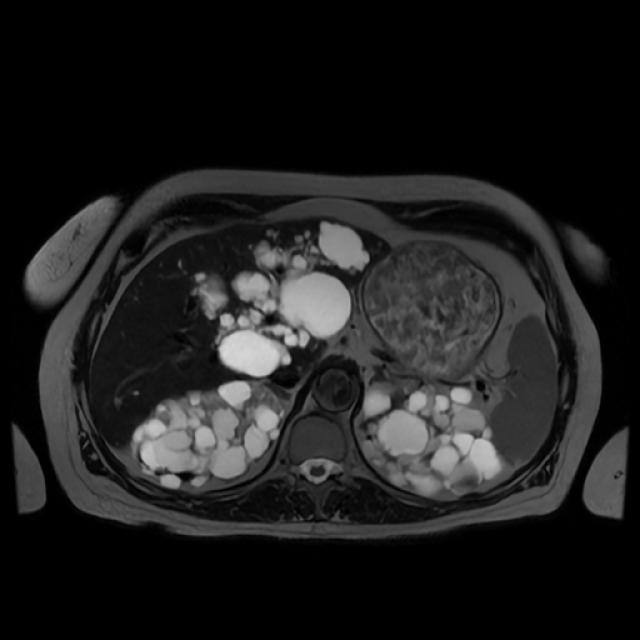sag: (128, 380, 287, 488)
sol: (359, 380, 503, 496)
